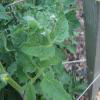Tomato leaf mosaic virus: (38, 70, 79, 99), (18, 33, 55, 62), (52, 15, 69, 45), (34, 11, 49, 28), (24, 81, 36, 99), (22, 61, 37, 75), (49, 56, 59, 65)
